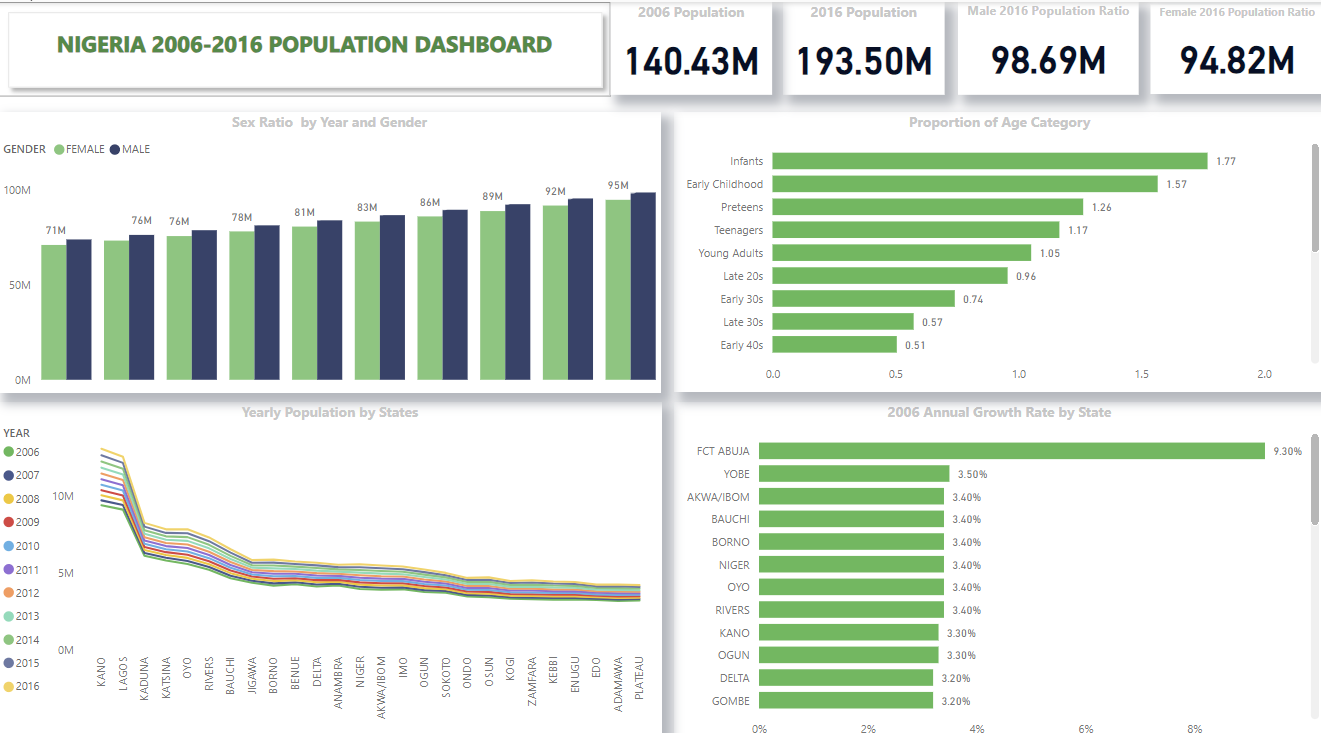

Layout of this report page (visuals, bound fields, positions):
{"tool":"powerbi","page":{"name":"Population Dashboard ","canvas":[1280,720],"ordinal":0},"visuals":[{"type":"card","title":"2016 Population","fields":{"Values":["All Measures.Total_Population_2016"]},"box":[757.4,0,155.8,89.5],"z":0},{"type":"card","title":"Male 2016 Population Ratio","fields":{"Values":["All Measures.Male_popltn_Ratio_2016"]},"box":[926.3,0,174.6,89.5],"z":1000},{"type":"card","title":"Female 2016 Population Ratio","fields":{"Values":["All Measures.Female_popltn_Ratio_2016"]},"box":[1112.4,2.9,167.4,86.6],"z":2000},{"type":"shape","box":[0,0,591.5,90.9],"z":3000},{"type":"textbox","box":[21.6,20.2,548.2,53.4],"z":4000},{"type":"barChart","title":"2006 Annual Growth Rate by State","fields":{"Y":["All Measures.2006_AnnualRevenue"],"Category":["StateLookup.STATE"]},"box":[652.1,386.7,627.6,333.3],"z":5000},{"type":"lineClusteredColumnComboChart","title":"Sex Ratio  by Year and Gender","fields":{"Y":["Sum(Sex Ratio Excel Table.Value)"],"Category":["Sex Ratio Excel Table.YEAR"],"Series":["Sex Ratio Excel Table.GENDER"]},"box":[0,106.7,640,271.1],"z":6000},{"type":"clusteredBarChart","title":"Proportion of Age Category","fields":{"Category":["age group 2.AGE CATEGORY"],"Y":["Sum(age group 2.PROPORTION)"]},"box":[652.2,106.7,627.8,270],"z":7000},{"type":"lineChart","title":"Yearly Population by States","fields":{"Category":["Population Excel Table.STATE"],"Series":["Population Excel Table.YEAR"],"Y":["All Measures.Total_population_state"]},"box":[0,386.7,640.6,333.3],"z":8000},{"type":"card","title":"2006 Population","fields":{"Values":["All Measures.Total_Population_2006"]},"box":[591.5,0,155.8,89.5],"z":9000}]}

Visuals, with their boxes in screenshot pixels (x1, y1, x2, y2), scaled from the page's 1280x720 canvas onto the 1321x733 screenshot:
"2016 Population" card: box=[782, 0, 942, 91]
"Male 2016 Population Ratio" card: box=[956, 0, 1136, 91]
"Female 2016 Population Ratio" card: box=[1148, 3, 1320, 91]
shape: box=[0, 0, 610, 93]
textbox: box=[22, 21, 588, 75]
"2006 Annual Growth Rate by State" barChart: box=[673, 394, 1320, 732]
"Sex Ratio  by Year and Gender" lineClusteredColumnComboChart: box=[0, 109, 660, 385]
"Proportion of Age Category" clusteredBarChart: box=[673, 109, 1320, 384]
"Yearly Population by States" lineChart: box=[0, 394, 661, 732]
"2006 Population" card: box=[610, 0, 771, 91]
